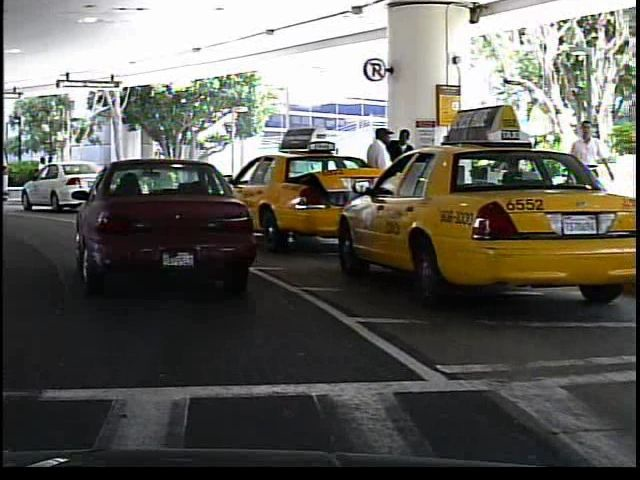person: (563, 116, 607, 233), (360, 125, 395, 231), (386, 124, 417, 226), (28, 151, 53, 194)
